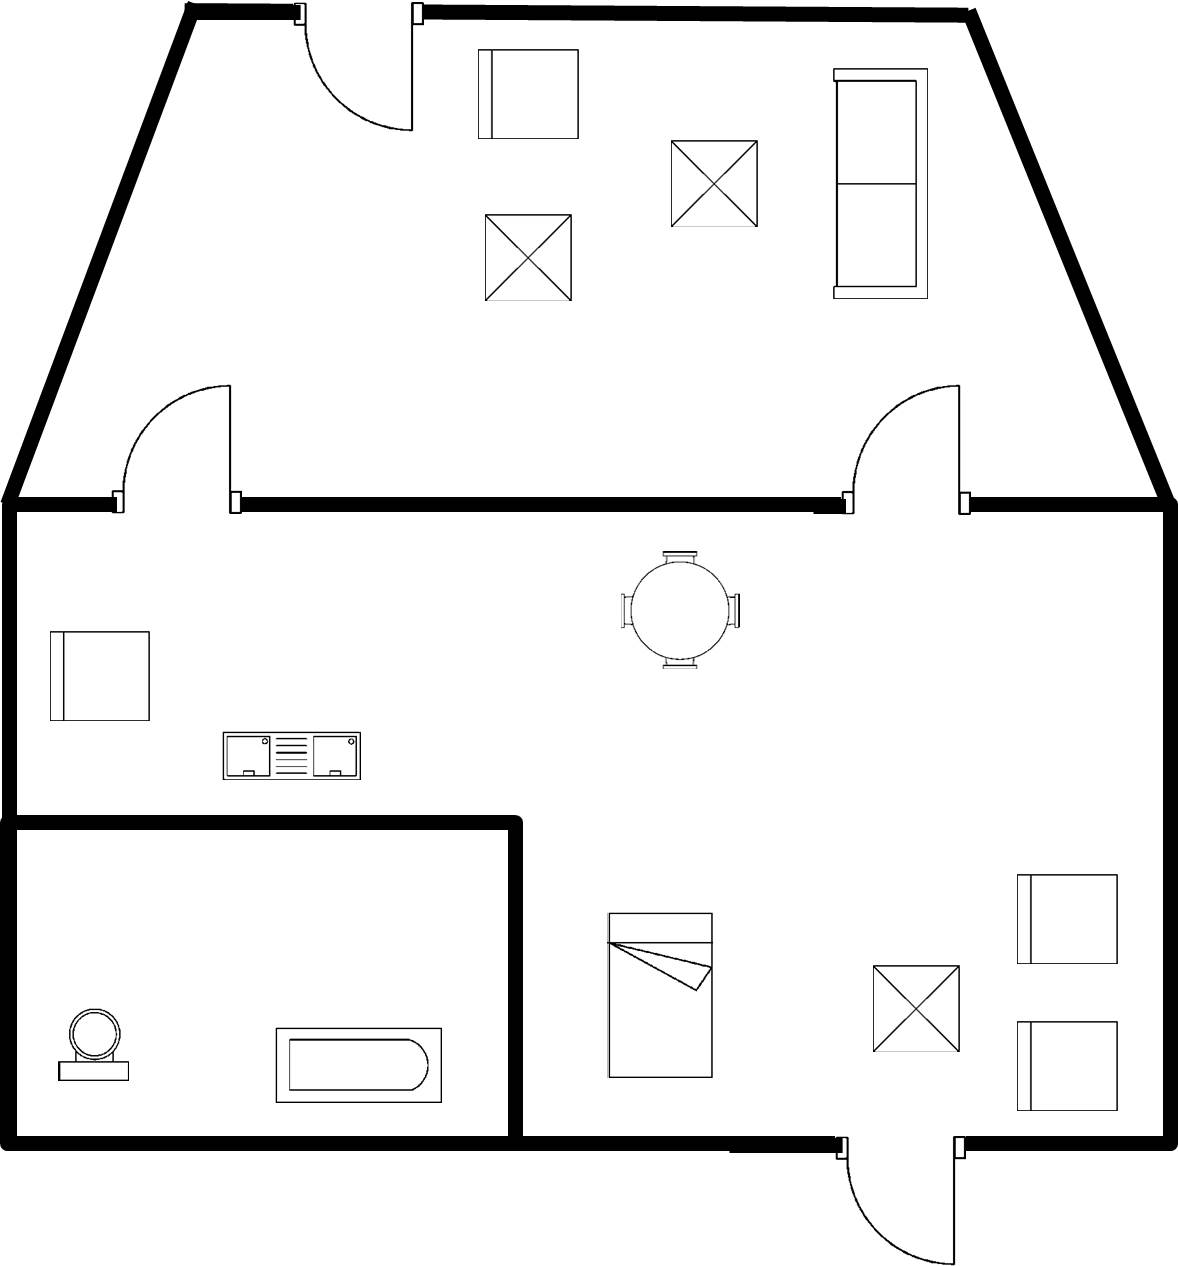bed: (596, 899, 723, 1089)
coffee_table: (473, 202, 580, 310), (662, 132, 768, 236), (864, 957, 969, 1059)
large_sink: (51, 1000, 138, 1093)
large_sofa: (825, 58, 937, 311)
round_table: (610, 541, 747, 676)
small_sofa: (463, 41, 589, 151), (37, 621, 163, 730), (1007, 863, 1125, 974), (1007, 1014, 1126, 1123)
tub: (264, 1015, 451, 1114)
twin_sink: (207, 720, 370, 789)
